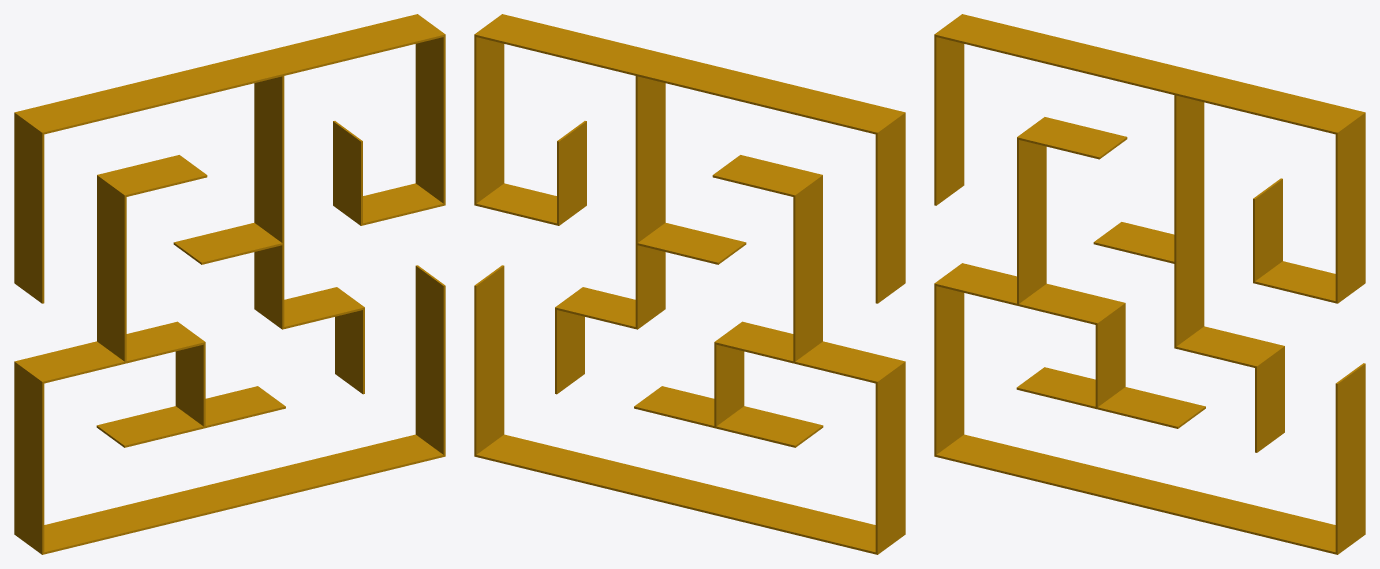
The model's file is PB_Level-09.fbx.
The picture shows the model from 3 angles, left to right: view 1: azimuth 30°, elevation 25°; view 2: azimuth 150°, elevation 25°; view 3: azimuth 330°, elevation 25°; orthographic projection.
Visible parts, largest first — view 1: Level 9 Shape; view 2: Level 9 Shape; view 3: Level 9 Shape.
Boxes of the visible parts, <box> form: Level 9 Shape: <box>14,14,445,554</box>; Level 9 Shape: <box>474,14,905,554</box>; Level 9 Shape: <box>934,14,1365,554</box>.
Bounding box in the file's own units: 10000 × 10000 × 1200.
